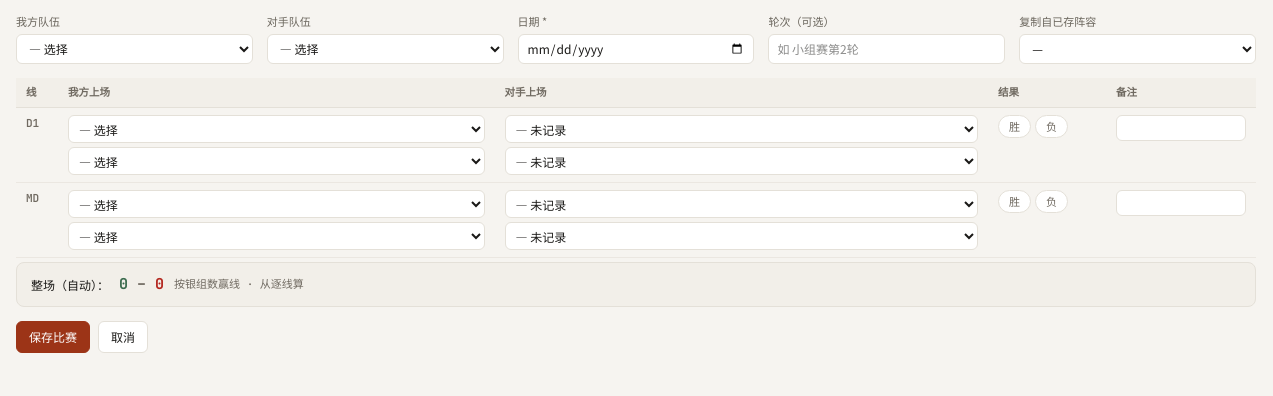
Test: MatchEntryForm gender rules › blocks saving a mixed line with two men and explains why
Select "交大" in the dropdown labelled "我方队伍" at (134,48), box [16,34,253,64]
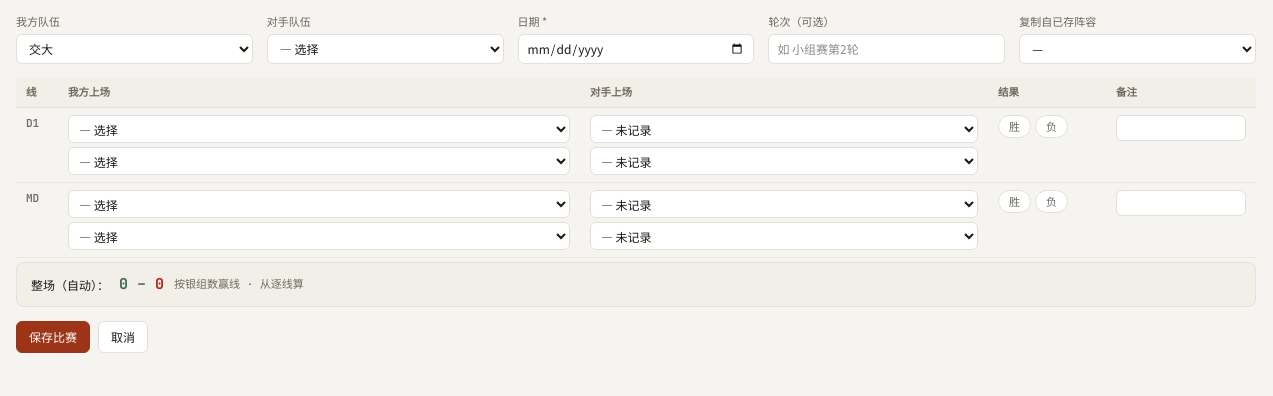
Select "清华" in the dropdown labelled "对手队伍" at (385,48), box [267,34,504,64]
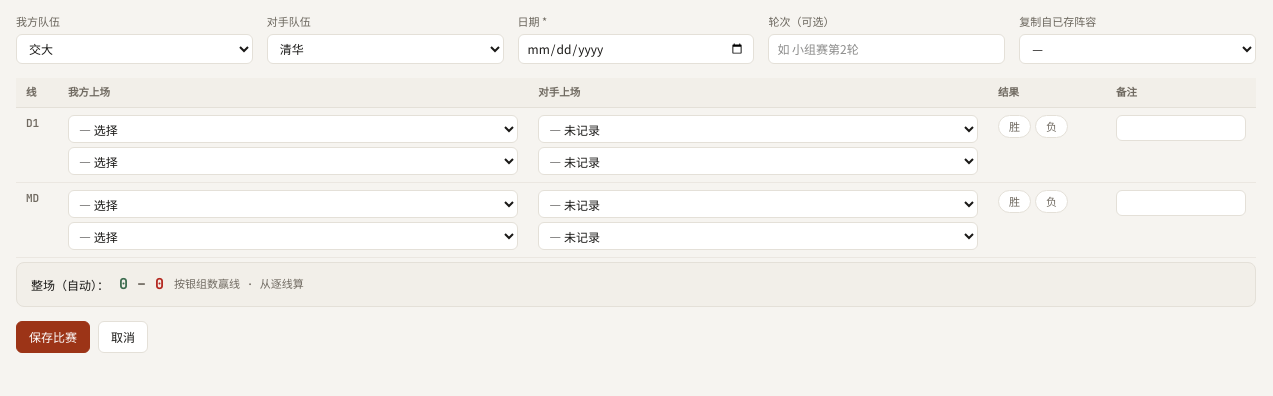
Type "2026-09-28" into the date field named "比赛日期".
click(636, 48); type("2026-09-28")  # box [518,34,754,64]
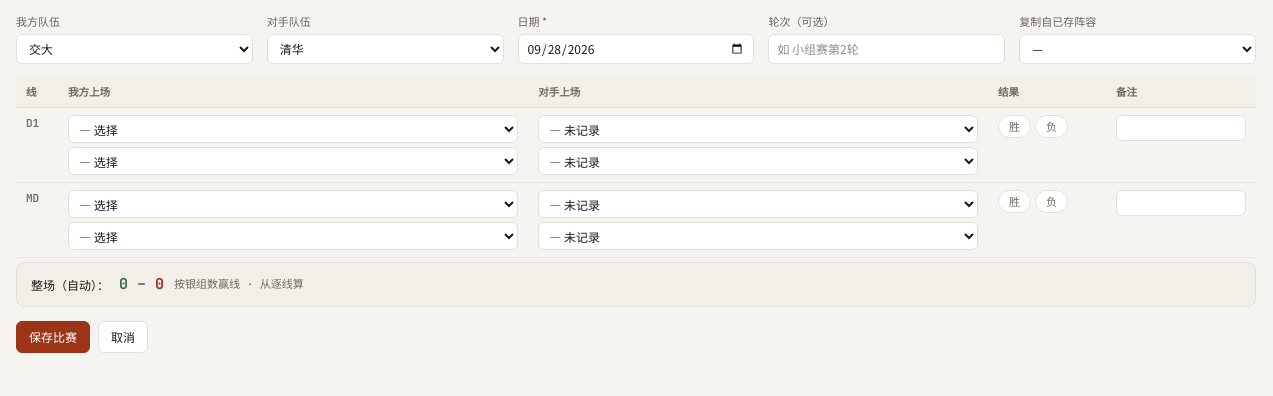
Note: MD with two men (p1, p2 are both M in ROSTERS)
Select "Chen X ♂ 7.00" in the dropdown named "MD 我方球员1" at (293,204), box [68,190,518,218]
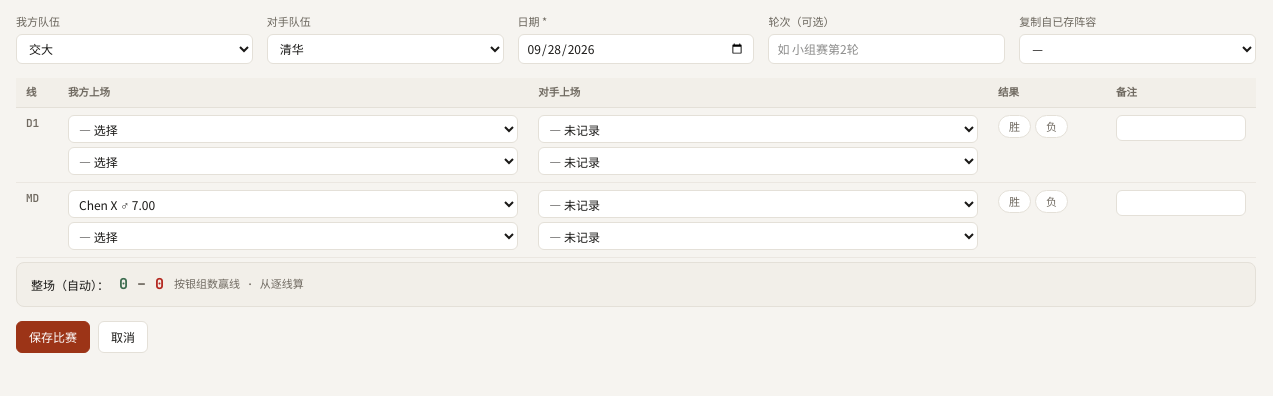
Select "Wu X ♂ 7.00" in the dropdown named "MD 我方球员2" at (293,236), box [68,222,518,250]
Click the button named "MD 胜".
click(1014, 202)  # box [998,190,1031,213]
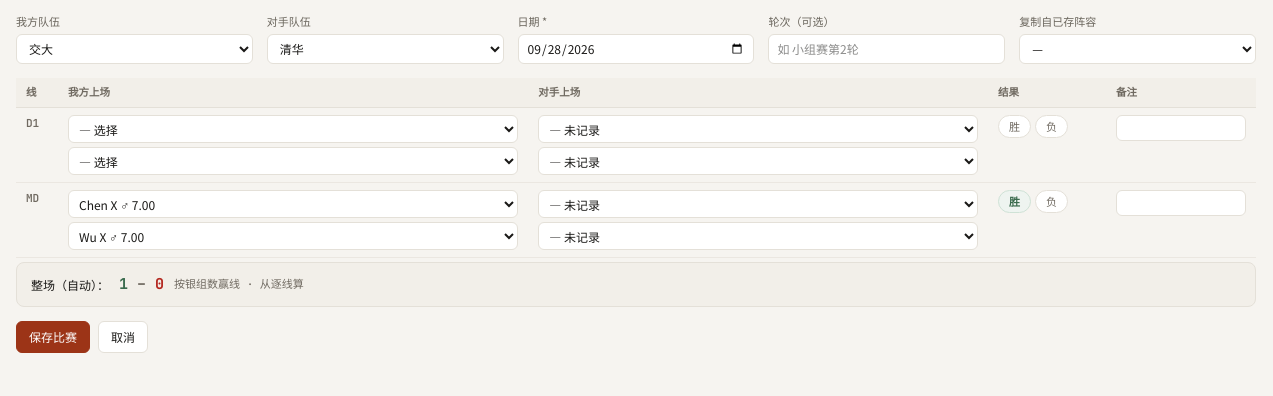
Click the button "保存比赛".
click(53, 337)  # box [16,321,90,353]
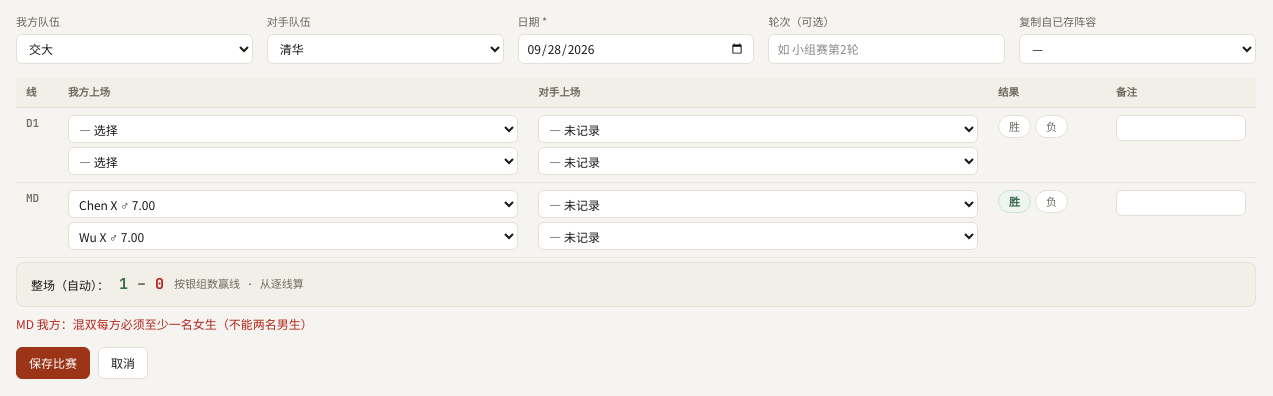
Expected: the text "MD 我方：混双每方必须至少一名女生（不能两名男生）" is shown, [16,315,313,332]
